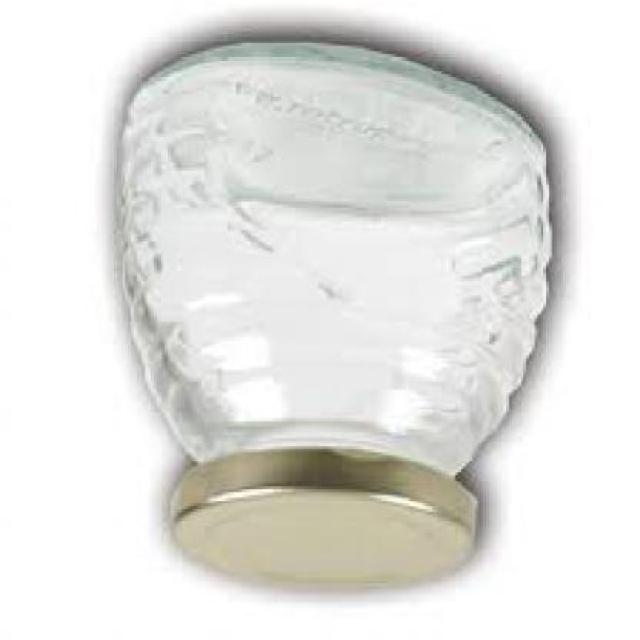GLASS: (114, 45, 549, 478)
METAL: (167, 452, 478, 597)
